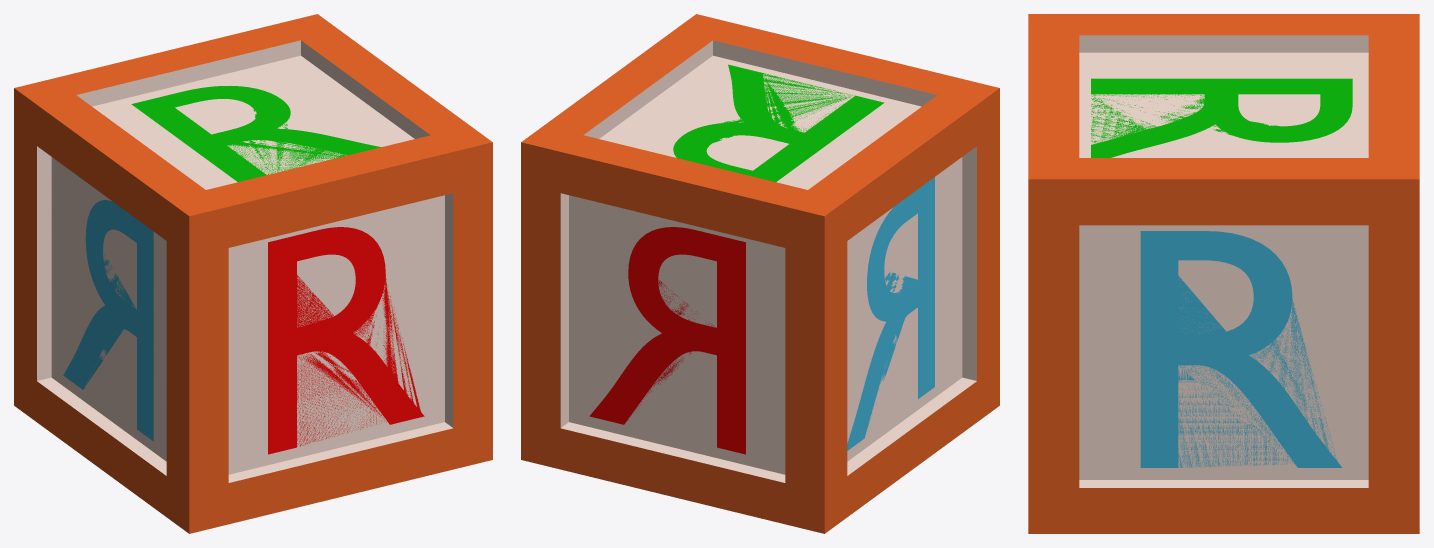
File: Prop_KidsCube_R.fbx
The picture shows the model from 3 angles, left to right: view 1: azimuth 30°, elevation 25°; view 2: azimuth 150°, elevation 25°; view 3: azimuth 270°, elevation 25°; orthographic projection. The views are drawn at different scales.
Visible parts, largest first — view 1: Prop_KidsCube_R; view 2: Prop_KidsCube_R; view 3: Prop_KidsCube_R.
Boxes of the visible parts, box(x1,y1,x2,y2) form: Prop_KidsCube_R: box(14, 14, 492, 533); Prop_KidsCube_R: box(521, 14, 999, 533); Prop_KidsCube_R: box(1028, 14, 1419, 533).
Size of the model in its own units: 20.93 by 20.93 by 20.93.
